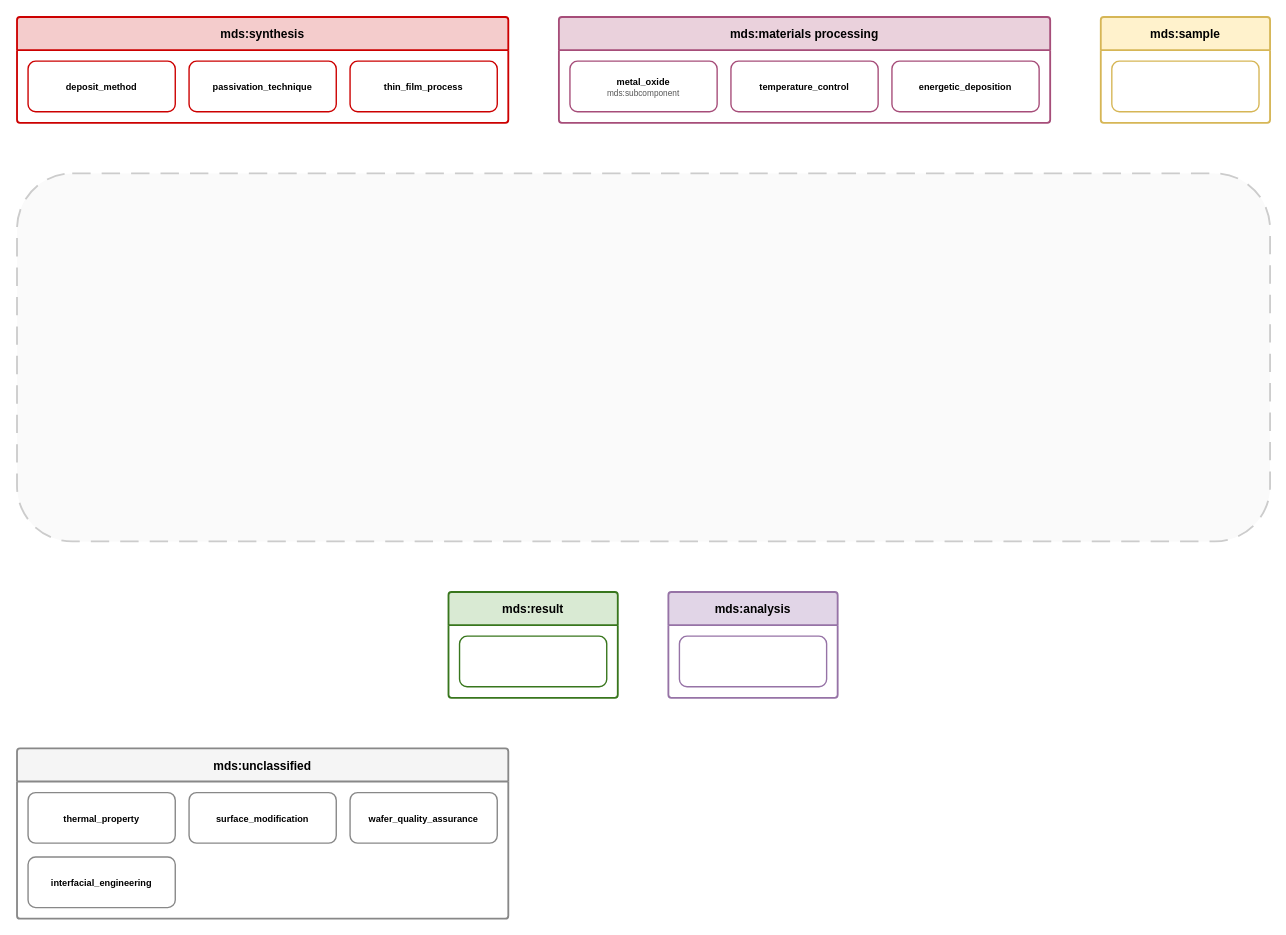
Image size: 1286x935. Some labels were removed from this diagram. Here are the shapes that lost their labels. From the top down, the centre of each, then its label:
point 1185,86: interface_engineering
point 643,357: ← Drag concepts here →
point 532,661: c_si_material_properties
point 752,661: interface_recombination_velocity
